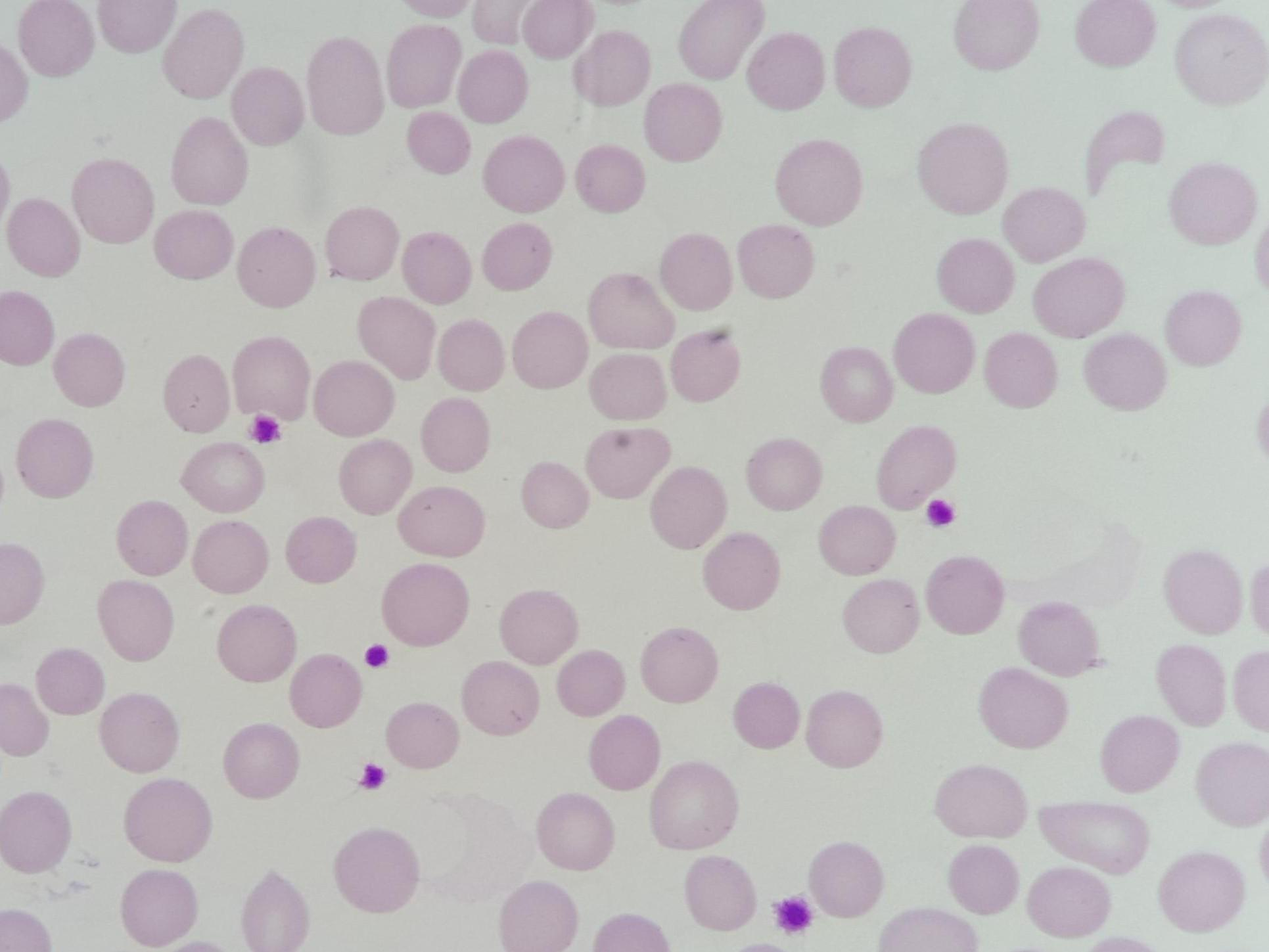Uninfected: (1036, 798, 1151, 878), (1174, 17, 1269, 106), (648, 760, 738, 852), (920, 125, 1009, 214), (334, 829, 424, 915), (980, 666, 1071, 751), (1030, 255, 1123, 338), (382, 563, 471, 649), (1168, 161, 1260, 244), (308, 37, 384, 136), (124, 779, 210, 864), (1160, 852, 1248, 935), (161, 11, 242, 101), (776, 141, 862, 225), (1162, 548, 1244, 636), (172, 116, 250, 207), (935, 763, 1027, 840), (74, 158, 155, 245), (1083, 110, 1164, 197), (679, 0, 765, 81), (589, 271, 675, 351), (879, 424, 956, 512), (895, 314, 977, 395), (215, 604, 297, 685), (1099, 713, 1181, 794), (649, 466, 729, 549), (1017, 601, 1102, 679), (231, 336, 309, 420), (1083, 334, 1164, 414), (927, 556, 1007, 637), (100, 577, 174, 664), (461, 659, 541, 739), (237, 228, 316, 309), (314, 359, 395, 438), (1003, 188, 1087, 264), (99, 694, 179, 773), (536, 791, 616, 870), (701, 533, 781, 612), (804, 691, 884, 770), (179, 442, 265, 515), (587, 430, 673, 503), (398, 487, 485, 559), (1197, 742, 1269, 829), (640, 627, 719, 706), (485, 136, 563, 216), (935, 238, 1015, 316), (222, 721, 300, 801), (841, 578, 922, 655), (362, 297, 436, 381), (1162, 290, 1241, 368), (499, 589, 579, 666), (16, 420, 92, 501), (121, 868, 197, 949), (388, 25, 461, 109), (573, 29, 651, 107), (957, 0, 1038, 75), (836, 28, 910, 110), (338, 440, 416, 517), (514, 312, 590, 391), (0, 791, 72, 874), (1027, 867, 1111, 938), (646, 86, 722, 164), (745, 436, 823, 512), (684, 851, 758, 931), (290, 651, 363, 732), (1156, 647, 1226, 731), (809, 842, 884, 920), (749, 34, 825, 110), (985, 331, 1058, 410), (821, 504, 897, 579), (659, 236, 732, 313), (191, 524, 269, 596), (10, 198, 80, 278), (155, 210, 235, 280), (1074, 0, 1157, 67), (117, 498, 186, 578), (328, 206, 400, 282), (499, 882, 577, 952), (947, 842, 1020, 916), (739, 226, 811, 301), (19, 7, 95, 78), (234, 68, 303, 146), (241, 870, 306, 952), (589, 718, 662, 791), (420, 398, 491, 472), (162, 356, 230, 433), (589, 354, 667, 421), (671, 333, 742, 406), (519, 463, 593, 533), (458, 50, 526, 126), (825, 350, 894, 424), (33, 647, 107, 716), (387, 704, 462, 772), (284, 515, 356, 585), (482, 223, 554, 292), (436, 320, 505, 392), (55, 335, 122, 409), (575, 146, 645, 215), (404, 236, 471, 307), (558, 651, 627, 719), (522, 0, 596, 63), (876, 907, 979, 952), (734, 684, 800, 750), (97, 0, 176, 54), (408, 111, 470, 173), (0, 295, 53, 365), (0, 545, 44, 629), (474, 0, 533, 45)
